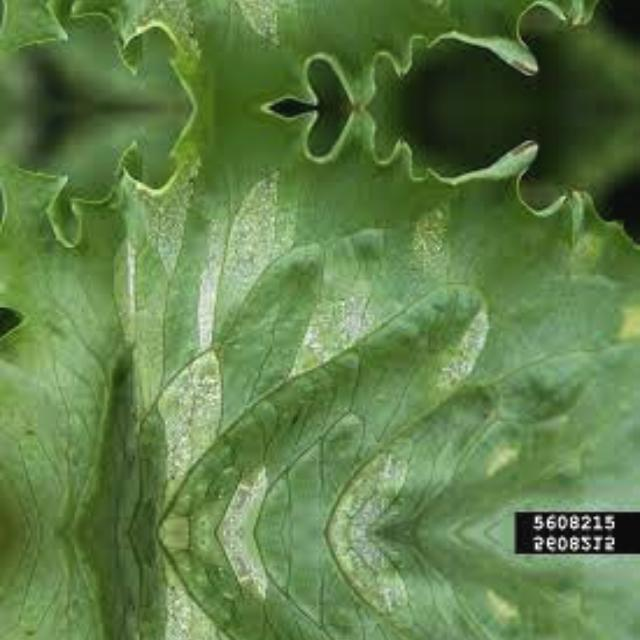Downy_mildew: (5, 121, 628, 531), (4, 535, 627, 640), (4, 0, 627, 93)
